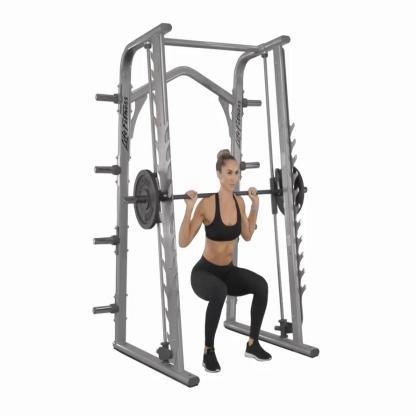smith machine: (93, 21, 320, 388)
